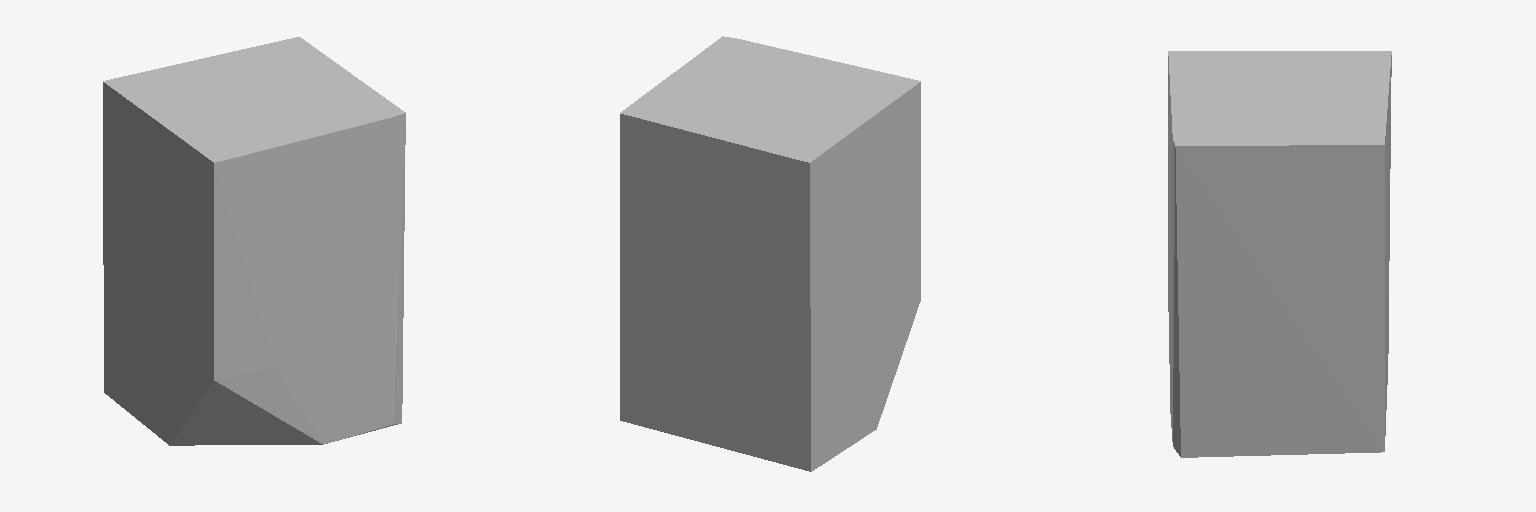
Rendered from solo_12_base_collision_4.obj.
3 views of the same model, side by side, from view 1: azimuth 30°, elevation 25°; view 2: azimuth 150°, elevation 25°; view 3: azimuth 270°, elevation 25° (orthographic).
Size of the model in its own units: 0.0504 by 0.0778 by 0.05.